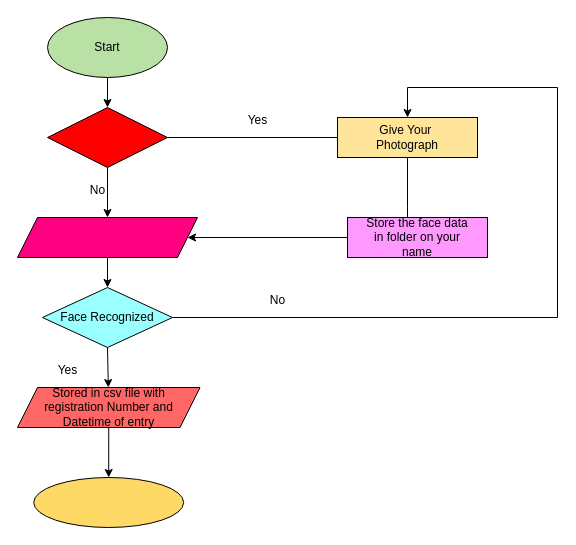
The diagram is 576 pixels wide and 545 high, and some of its shapes have lost their labels. The shapes that lost their labels are listed below. From the top down, each one's centre as x and y in pixels, then its label:
the point at 107,137: New User?
the point at 107,237: Recognize the face
the point at 108,502: End
